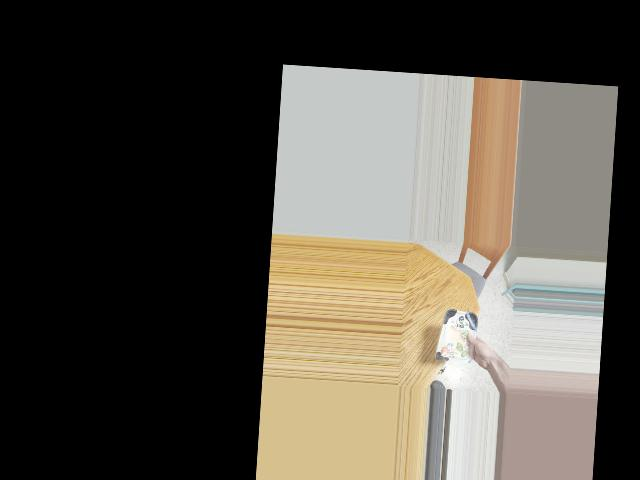cheese: (438, 310, 478, 359)
